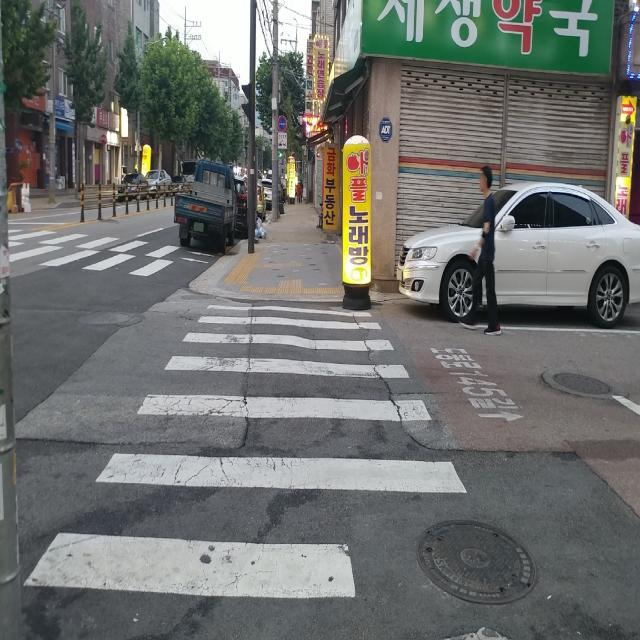횡단보도: (19, 298, 470, 603), (10, 229, 201, 279)
